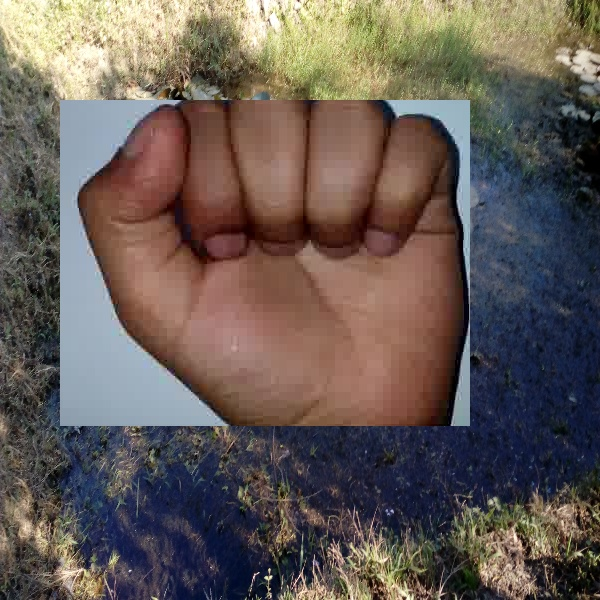A: (60, 100, 470, 426)
